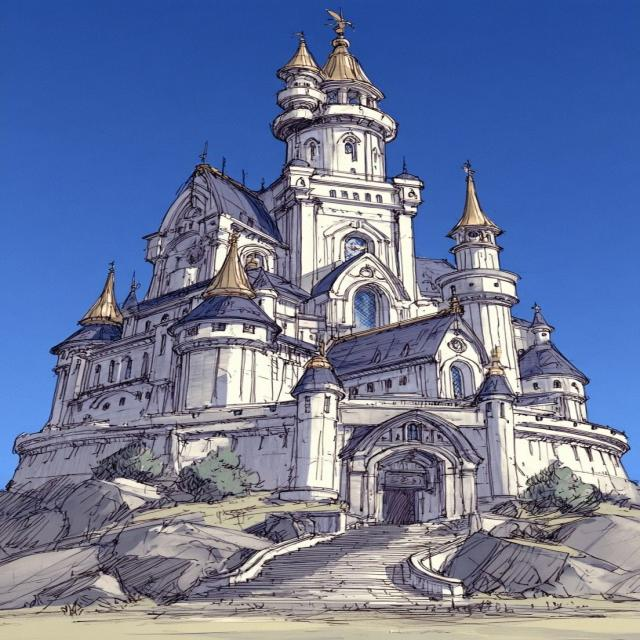castle: (28, 10, 640, 546)
